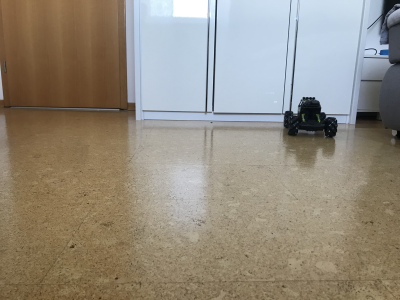remote control car: (282, 95, 339, 139)
